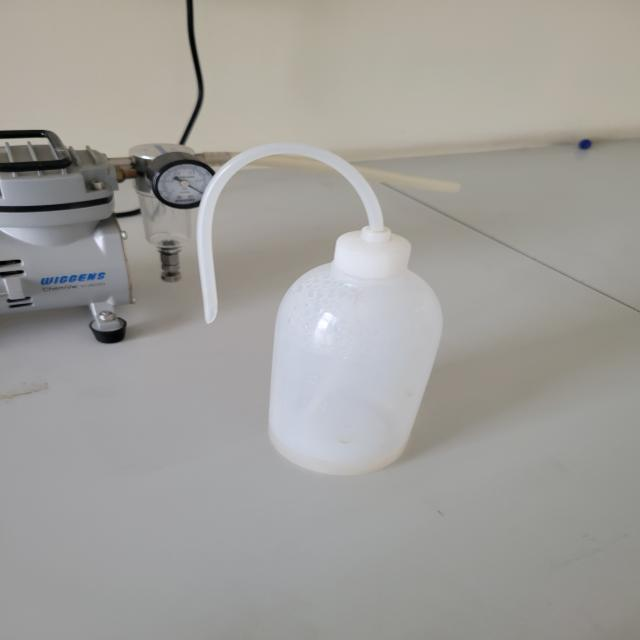Wash_Bottle: (170, 118, 490, 502)
